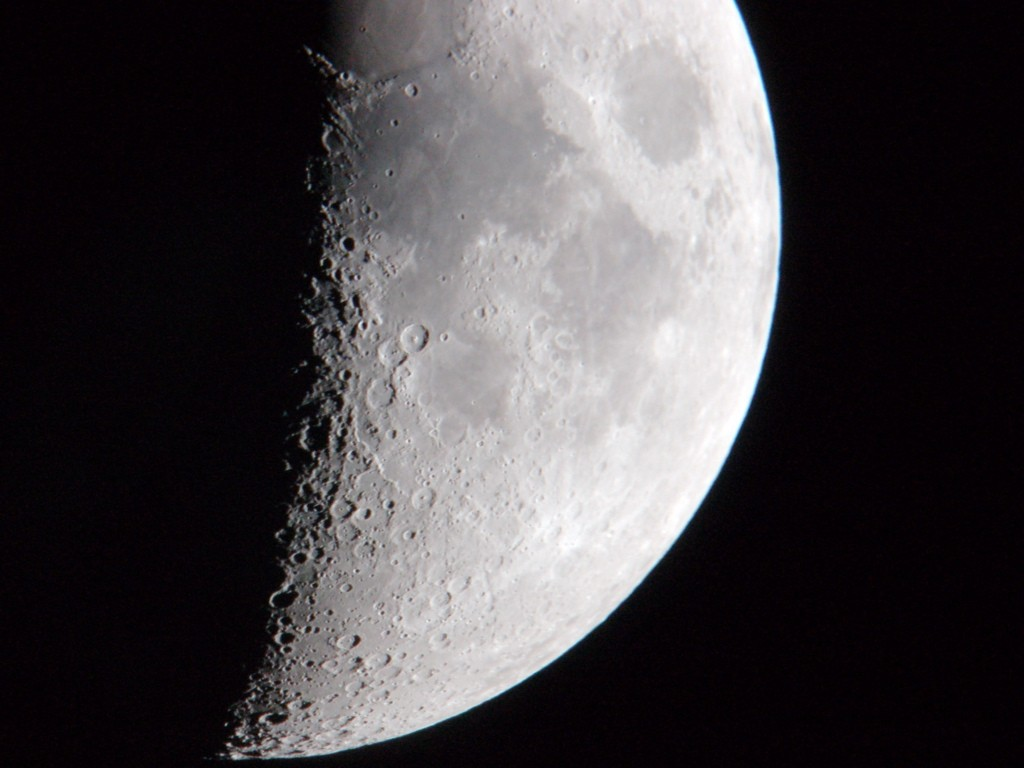crater: (605, 21, 724, 177), (426, 406, 474, 456), (248, 700, 299, 733), (299, 420, 338, 460), (397, 317, 434, 359), (347, 12, 387, 50), (404, 482, 446, 516), (264, 587, 305, 616), (328, 627, 369, 654), (517, 420, 551, 452), (565, 36, 596, 70), (524, 310, 556, 340), (577, 89, 611, 117), (448, 198, 477, 230), (322, 495, 359, 520), (462, 61, 491, 90), (492, 2, 529, 23), (400, 79, 425, 107), (429, 265, 455, 288), (289, 549, 311, 576), (379, 161, 402, 186), (375, 495, 401, 517), (428, 122, 449, 149), (469, 302, 492, 325), (333, 367, 357, 389), (337, 232, 358, 257), (395, 526, 419, 547), (387, 114, 408, 133), (542, 368, 565, 385), (438, 330, 460, 346)
